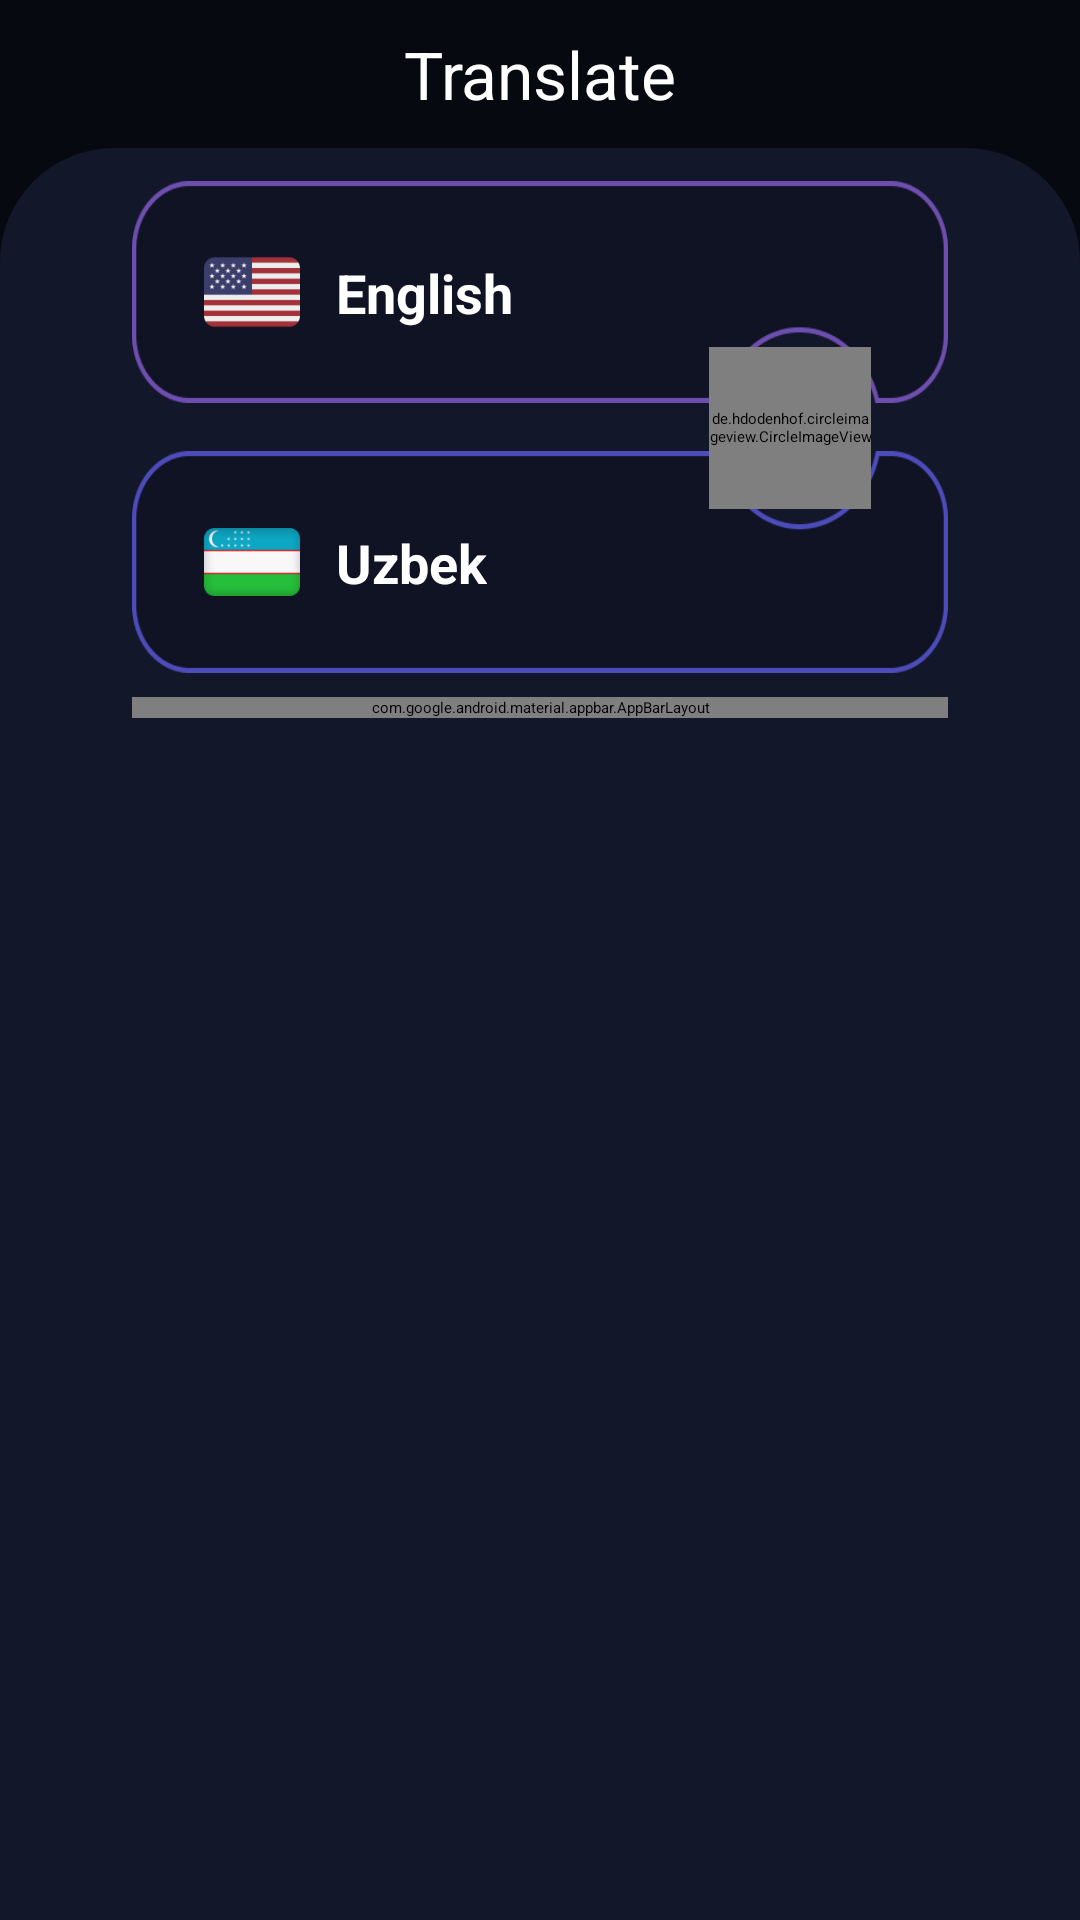

Screen size 1080*1920. Icon name, then its center in pixels as (x,y):
uzb: (252,562)
